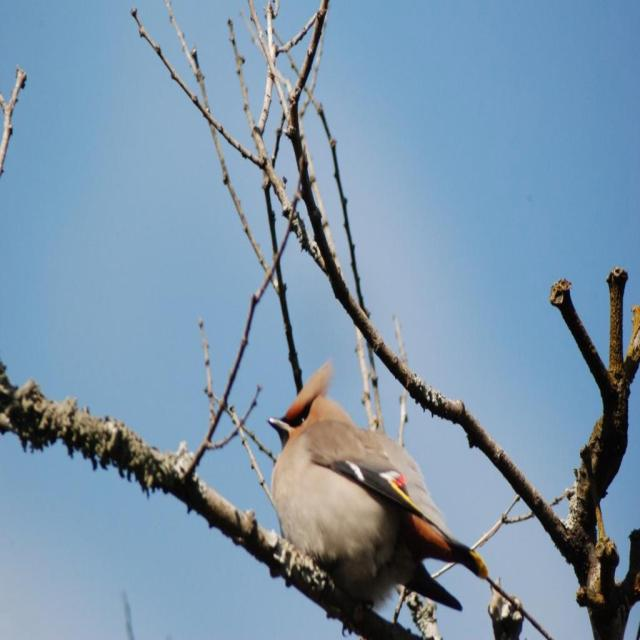bird: (258, 366, 485, 626)
